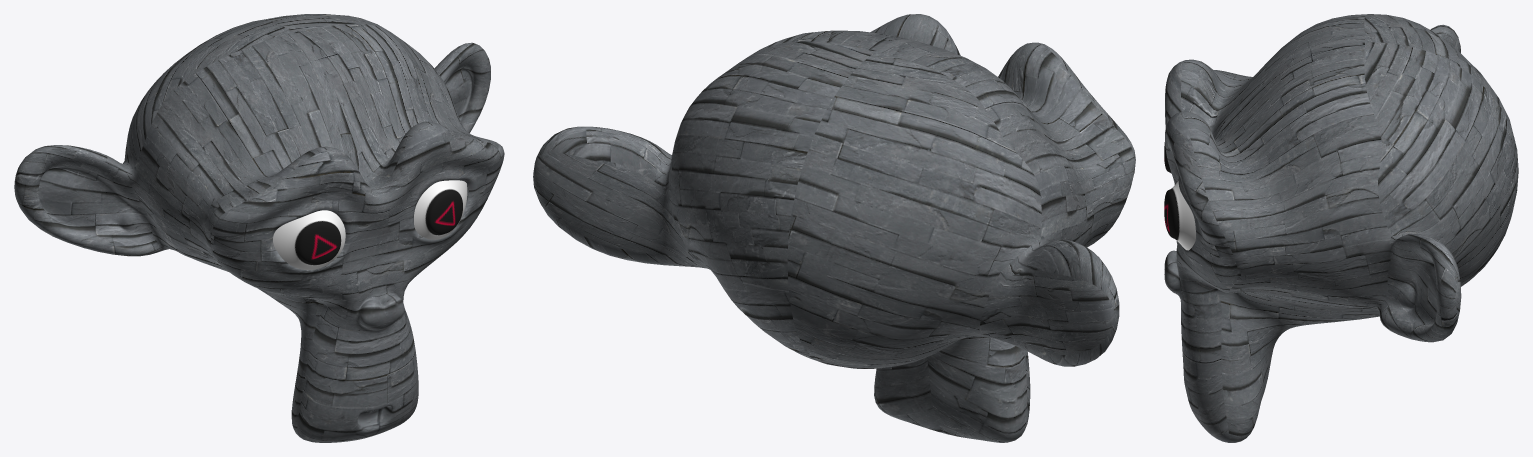
The model's file is Suzanne.dae.
The picture shows the model from 3 angles, left to right: view 1: azimuth 30°, elevation 25°; view 2: azimuth 150°, elevation 25°; view 3: azimuth 270°, elevation 25°; orthographic projection. The views are drawn at different scales.
Visible parts, largest first — view 1: Suzanne; view 2: Suzanne; view 3: Suzanne.
Part boxes in pixels (bbox=[...]): Suzanne: bbox=[14, 14, 504, 442]; Suzanne: bbox=[533, 14, 1135, 442]; Suzanne: bbox=[1164, 14, 1518, 442].
Size of the model in its own units: 1.39 by 0.8406 by 1.
1 material, 1 textured.
